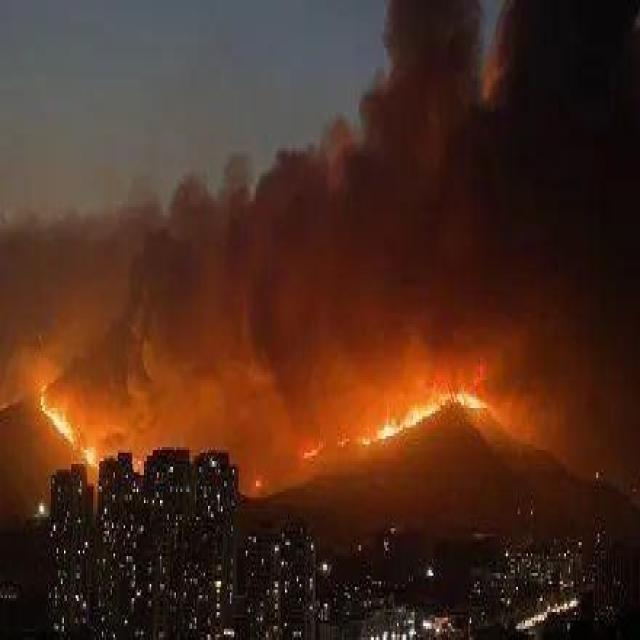fire: (292, 340, 508, 451), (38, 339, 118, 489)
smoke: (113, 33, 621, 415)
